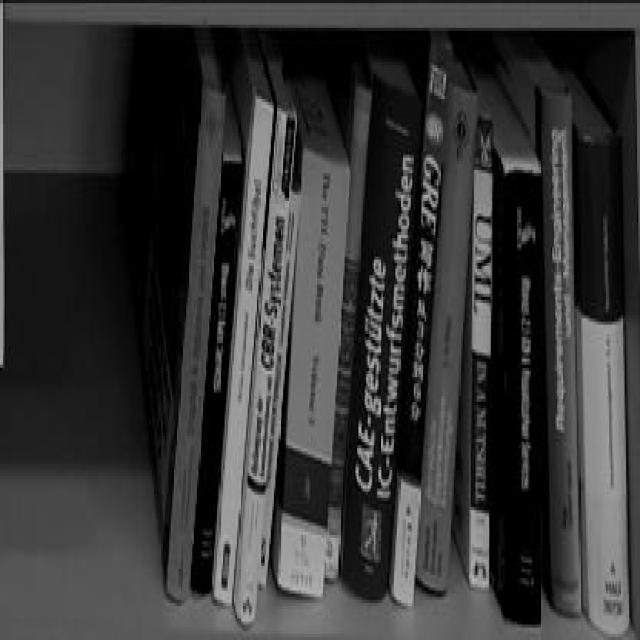book: (135, 34, 226, 599), (230, 50, 299, 630), (286, 132, 357, 597), (581, 125, 631, 635), (541, 80, 588, 613), (500, 152, 546, 627), (473, 111, 491, 601)
